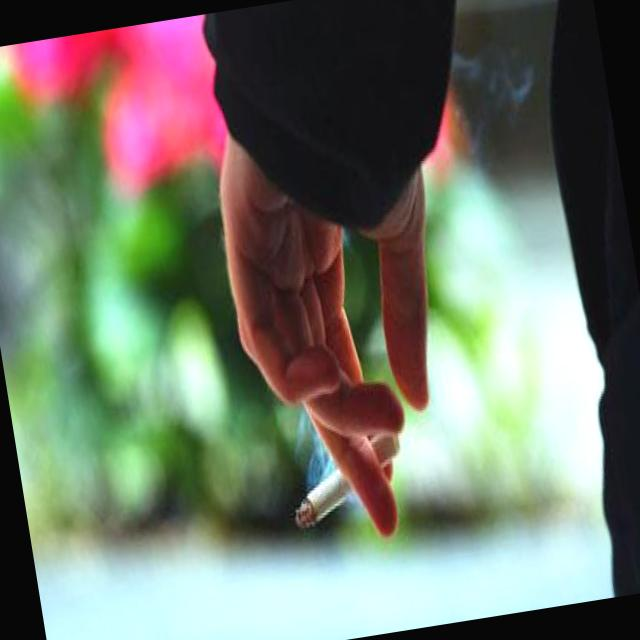cigarette: (287, 466, 349, 536)
